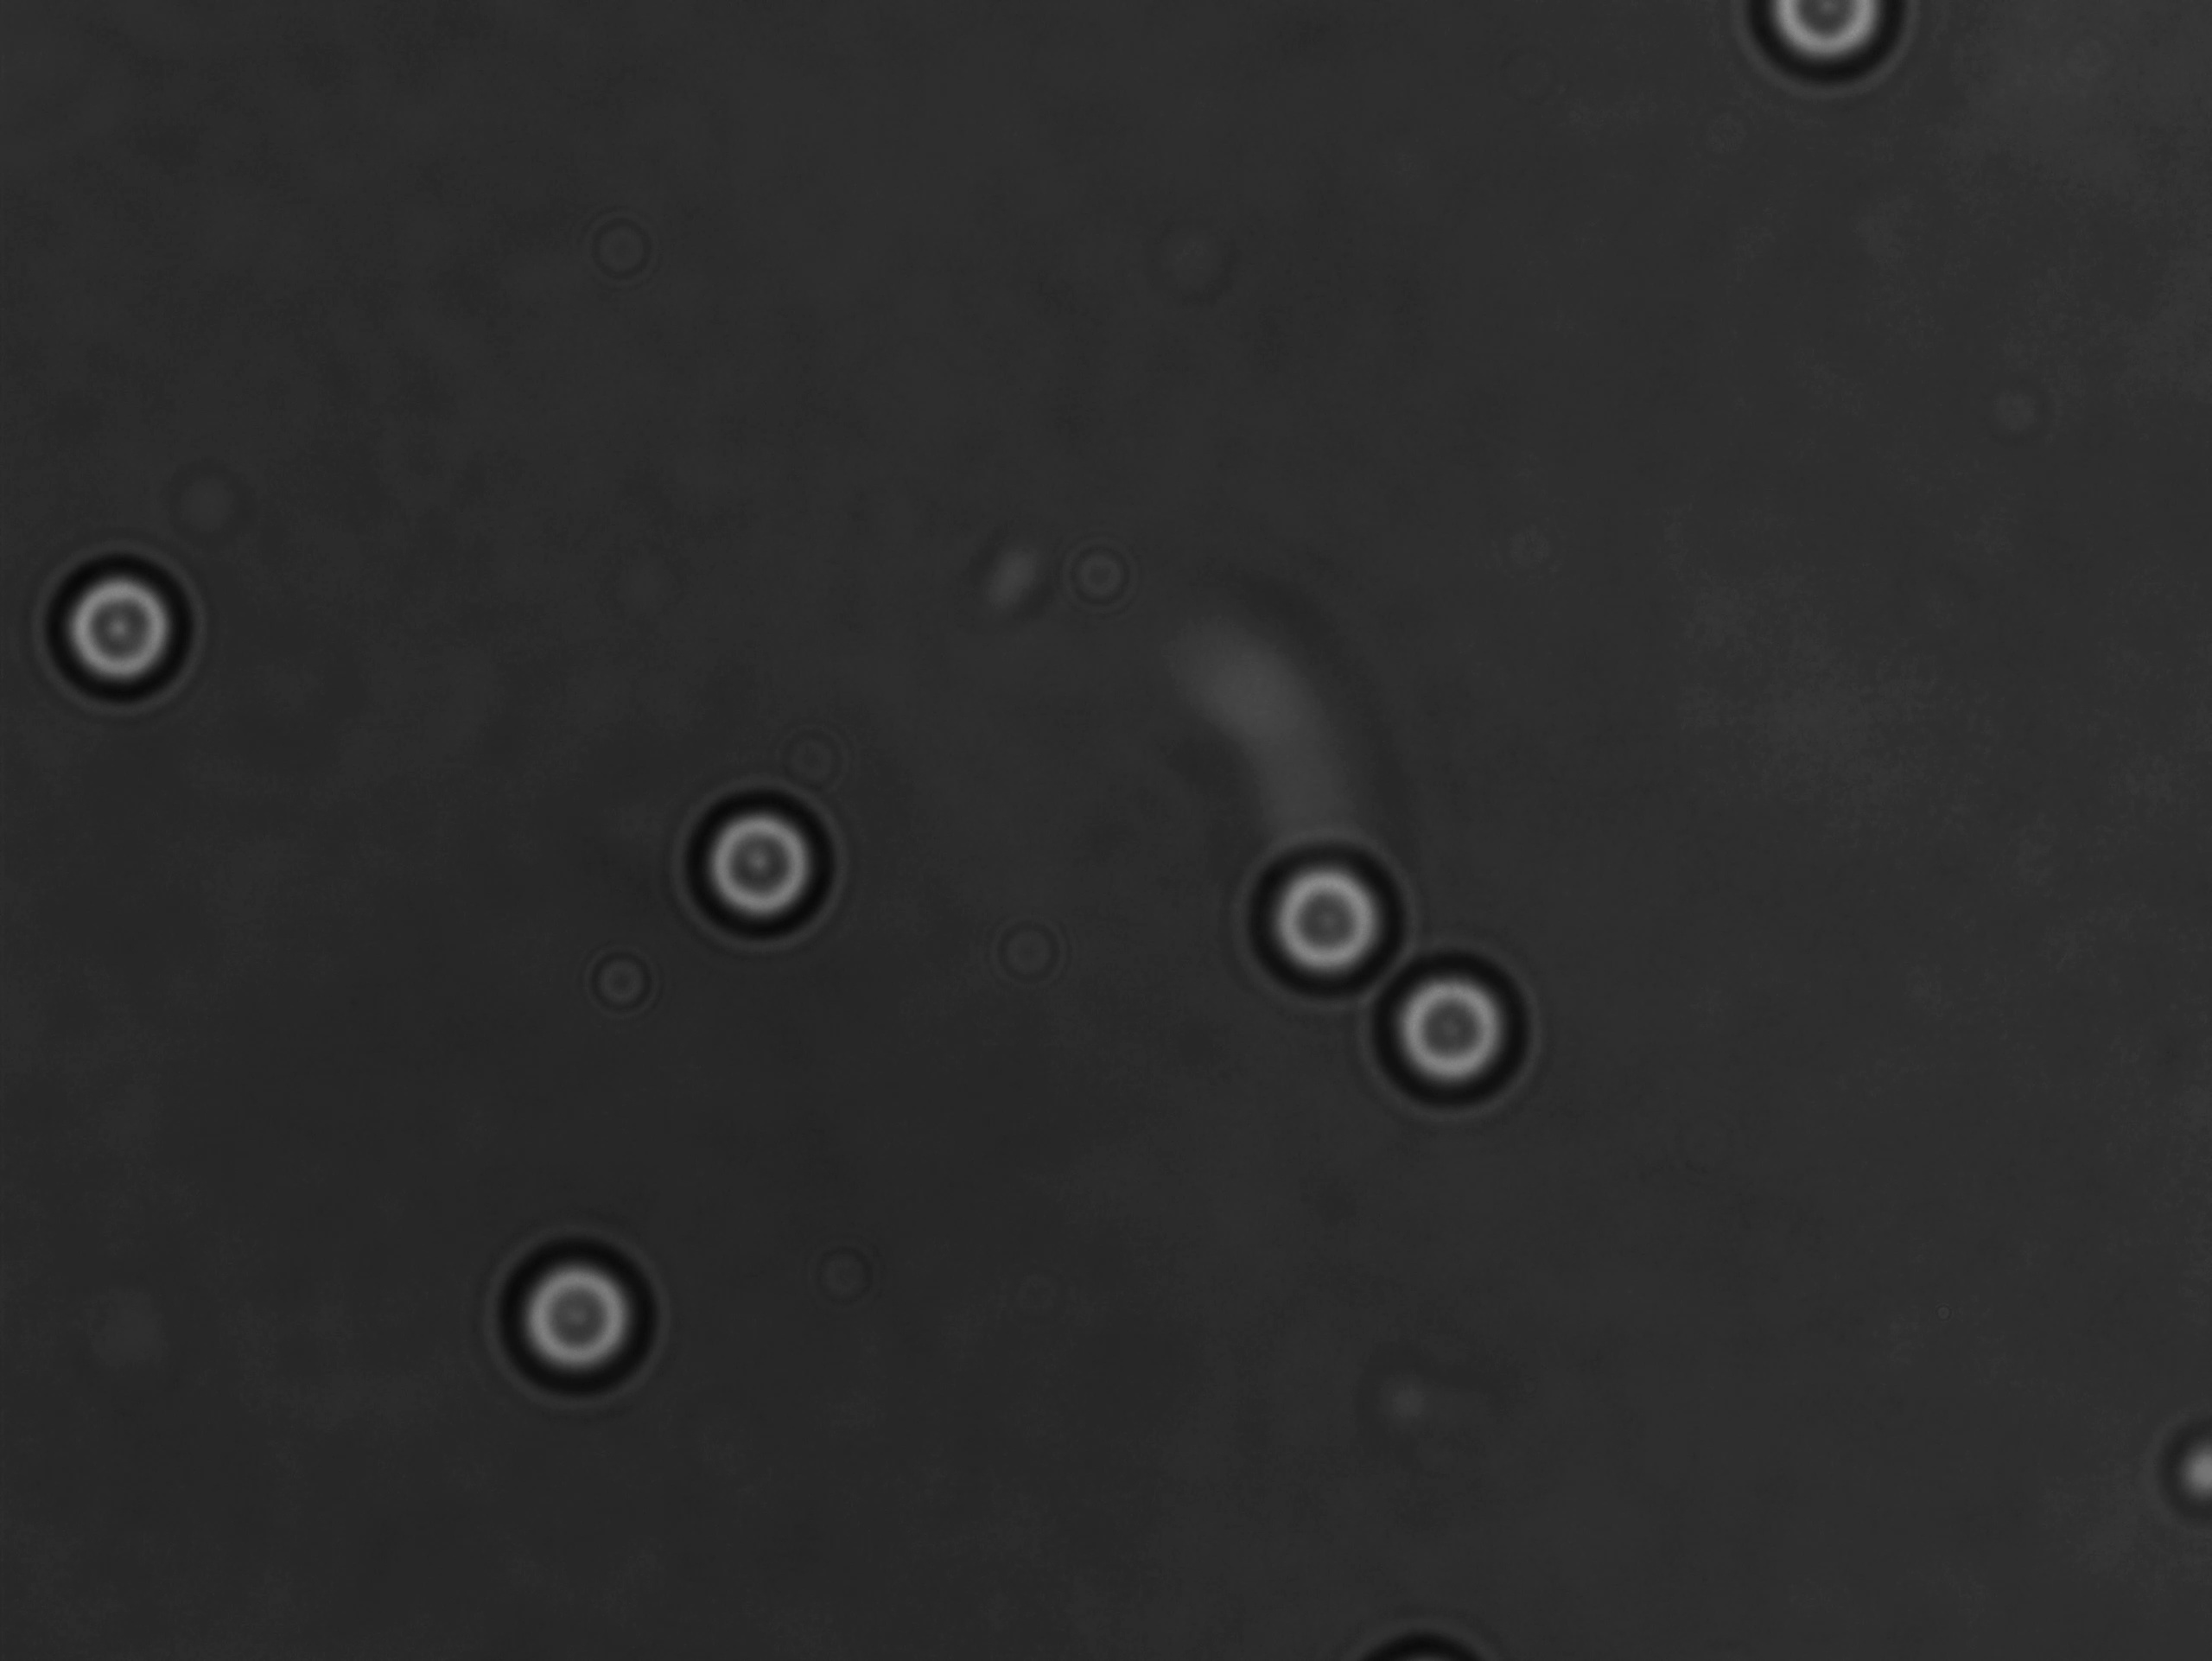depth:40: (1361, 947, 1561, 1122), (487, 1218, 670, 1398), (675, 775, 857, 953), (38, 548, 215, 708), (1239, 834, 1413, 995)
